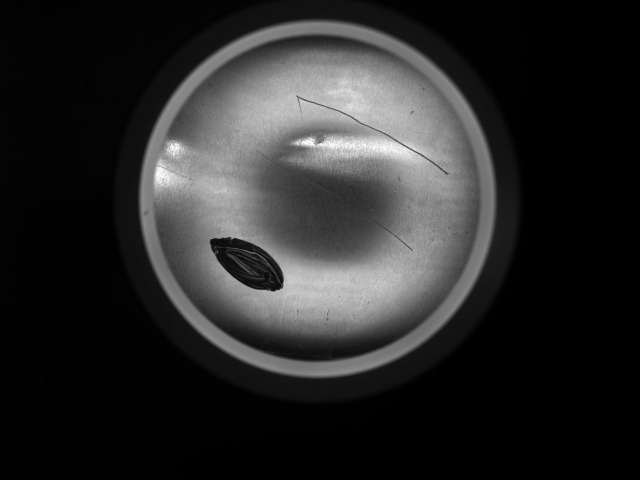ca_shang: (251, 143, 415, 253), (292, 90, 452, 182)
zang_wu: (201, 233, 290, 292)
